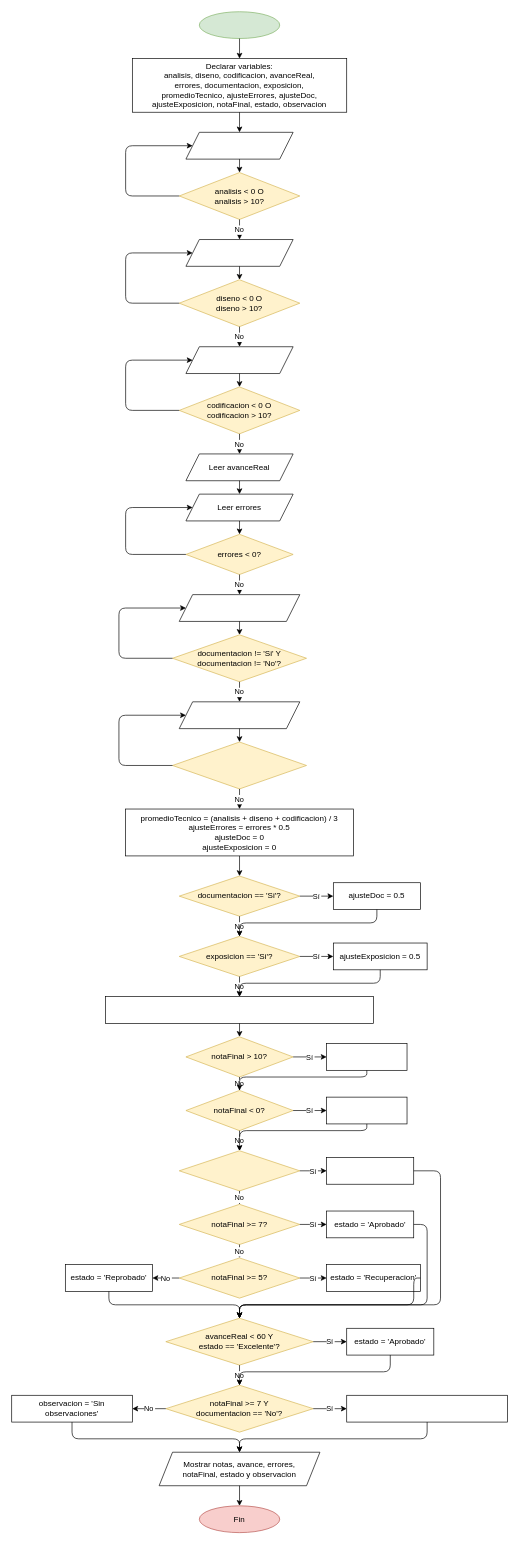
This 519x1544 diagram has some shape labels left out. Each missing label, with the box of its shape:
estado = 'Excelente': (326, 1157, 414, 1184)
exposicion != 'Si' Y exposicion != 'No'?: (172, 741, 307, 789)
Inicio: (199, 11, 280, 39)
Leer analisis: (185, 132, 293, 159)
Leer codificacion: (185, 346, 293, 374)
Leer diseno: (185, 239, 293, 266)
Leer documentacion: (179, 594, 300, 621)
Leer exposicion: (179, 701, 300, 729)
notaFinal = 0: (326, 1096, 407, 1124)
notaFinal = 10: (326, 1043, 407, 1070)
notaFinal = promedioTecnico - ajusteErrores + ajusteDoc + ajusteExposicion: (105, 996, 374, 1023)
notaFinal >= 9?: (179, 1150, 300, 1191)
observacion = 'Buen producto, pero mala formalidad': (346, 1395, 508, 1422)
